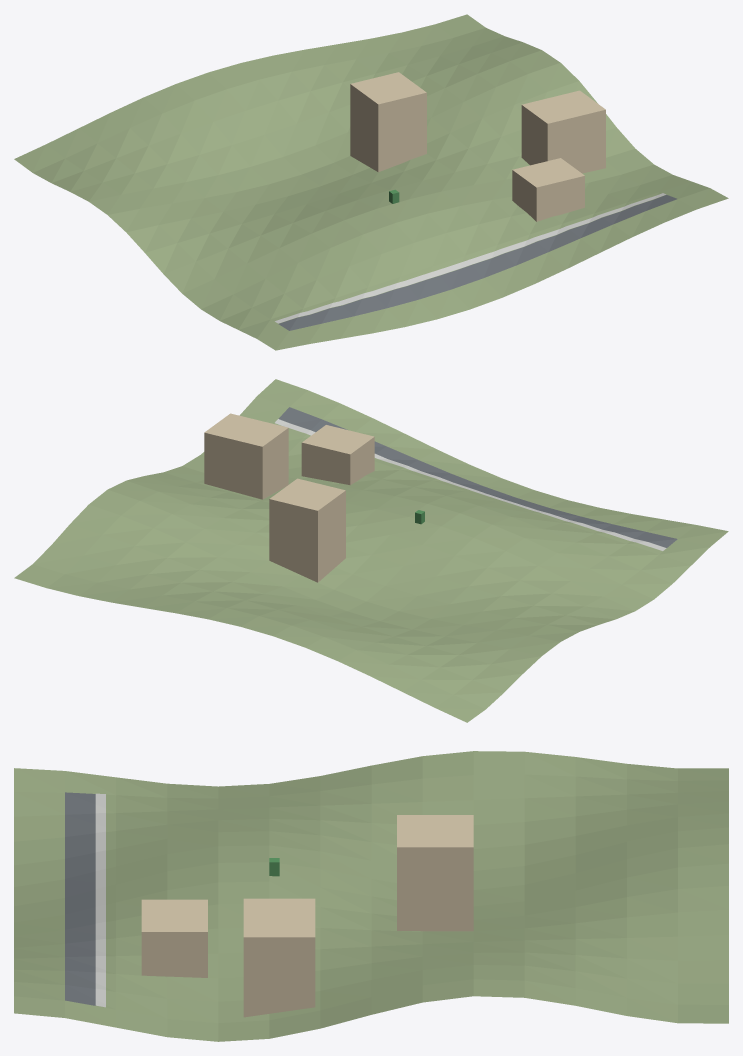
File: cleared.glb
3 renders of one model, top to bottom at view 1: azimuth 30°, elevation 25°; view 2: azimuth 150°, elevation 25°; view 3: azimuth 270°, elevation 25°, orthographic. The views are drawn at different scales.
Parts seen in each view (by area): view 1: terrain, keep-B, outside-C, road, crossing-D, walk; view 2: terrain, keep-B, outside-C, crossing-D, road, walk; view 3: terrain, keep-B, outside-C, road, crossing-D, walk.
Part boxes in pixels (x1,y1,x2,y2): terrain: (14, 14, 728, 350); keep-B: (350, 72, 426, 172); outside-C: (521, 90, 605, 173); road: (278, 195, 676, 330); crossing-D: (512, 158, 584, 221); walk: (275, 193, 666, 323); terrain: (14, 379, 728, 722); keep-B: (269, 478, 345, 582); outside-C: (204, 413, 288, 499); crossing-D: (301, 425, 374, 485); road: (278, 407, 677, 547); walk: (275, 419, 666, 550); terrain: (14, 751, 728, 1041); keep-B: (397, 815, 473, 931); outside-C: (243, 898, 315, 1017); road: (65, 792, 95, 1005); crossing-D: (141, 899, 207, 977); walk: (95, 793, 105, 1007).
Bounding box in the file's own units: 140 × 28.85 × 140.
